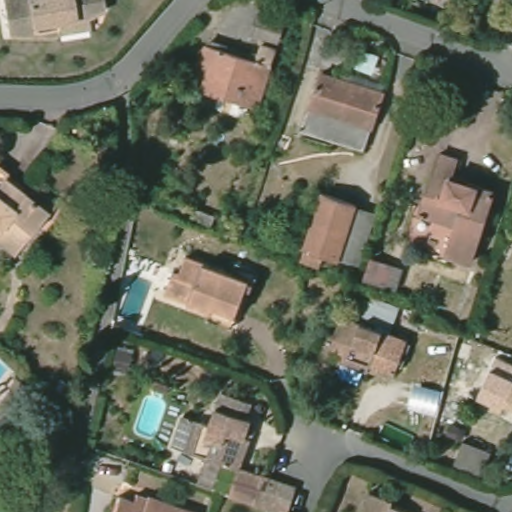pool: (118, 268, 150, 326), (133, 390, 168, 437), (1, 353, 9, 389)
